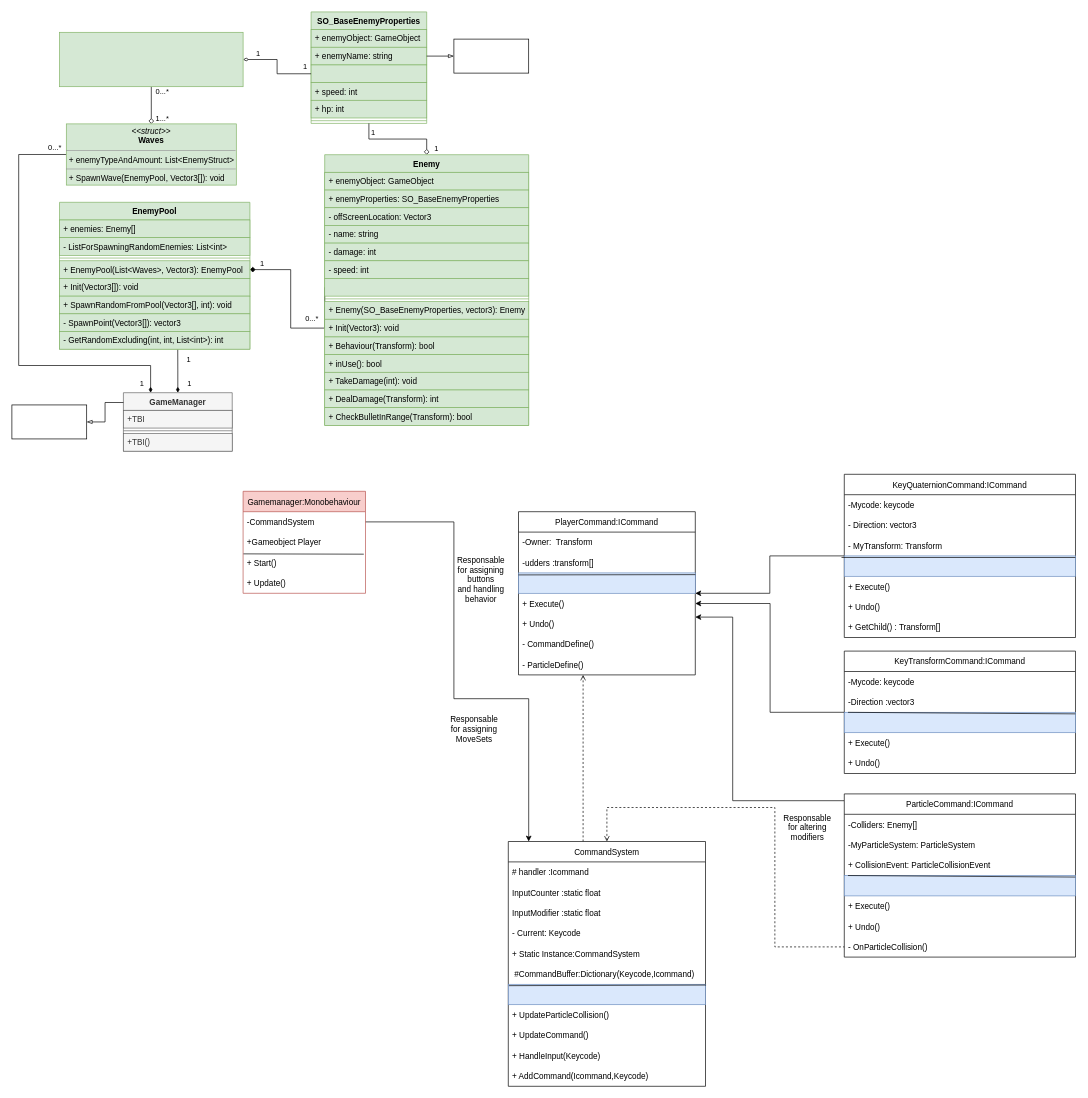
The diagram is 1088 pixels wide and 1098 high, and some of its shapes have lost their labels. Here are the shapes that lost their labels. From the top down, the centre of each, then its label:
[151,59]: <<struct>> EnemyStruct + enemyProperties: SO_BaseEnemyProperties + amount: int
[368,73]: + damage: int
[491,55]: ScriptableObject
[426,287]: - hp: int
[49,421]: Monobehaviour
[606,582]: + PlayerCommand(Transform,Enemypool)
[959,565]: + KeyquaternionCommand(Keycode,Transform,Quaternion)
[959,722]: + KeyTransformCommand(Keycode,Transform,Quaternion)
[959,885]: + ParticleCommand(Keycode,Transform,Quaternion)
[607,994]: + CommandSystem()
